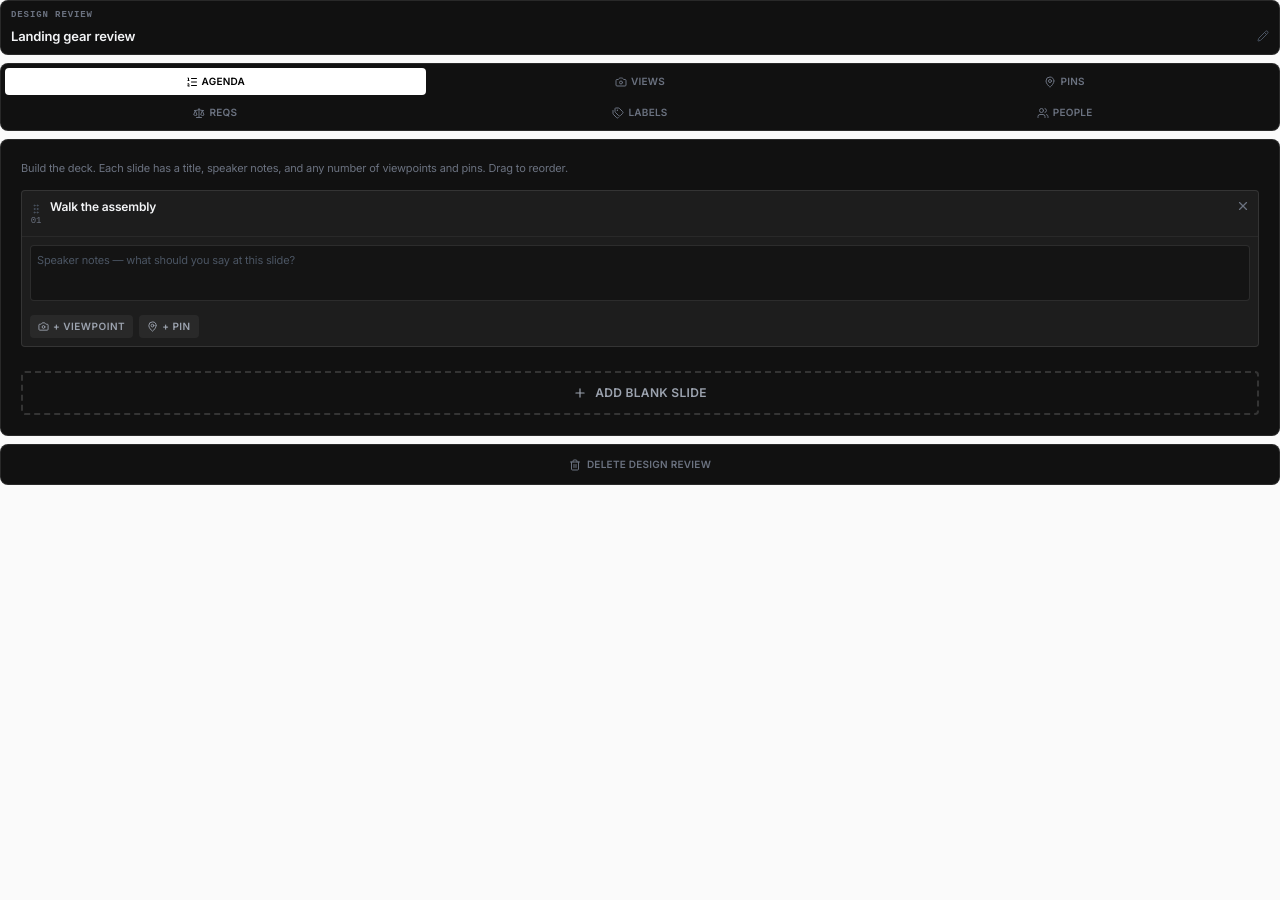
Test: deleting the design review › stays put and says what the endpoint said when it is refused
The width and height of the screenshot is (1280, 900).
Click the button "Delete design review" at coordinates (640, 465), box [7,451,1273,478]
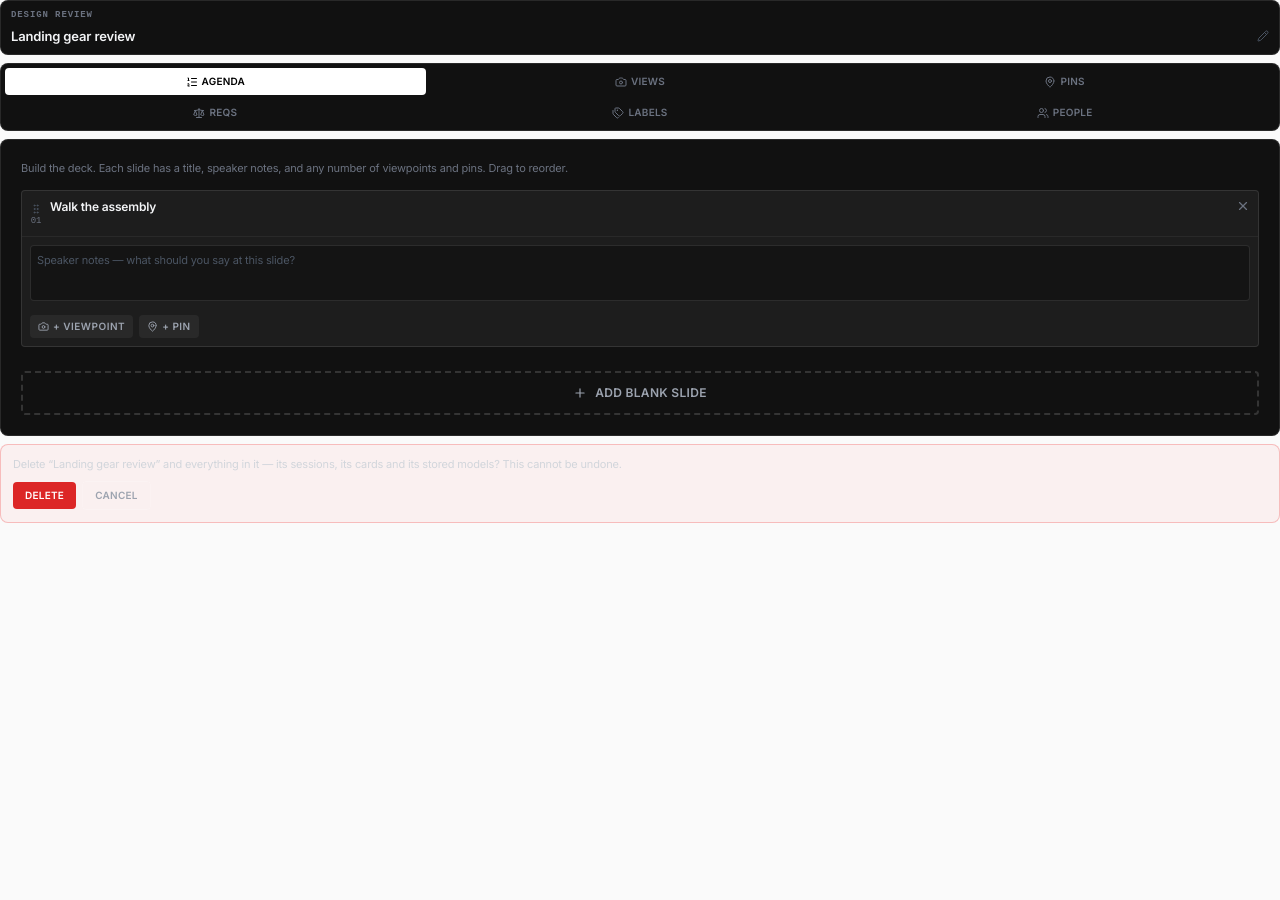
Click the button "Delete" at coordinates (45, 495), box [13,482,76,508]
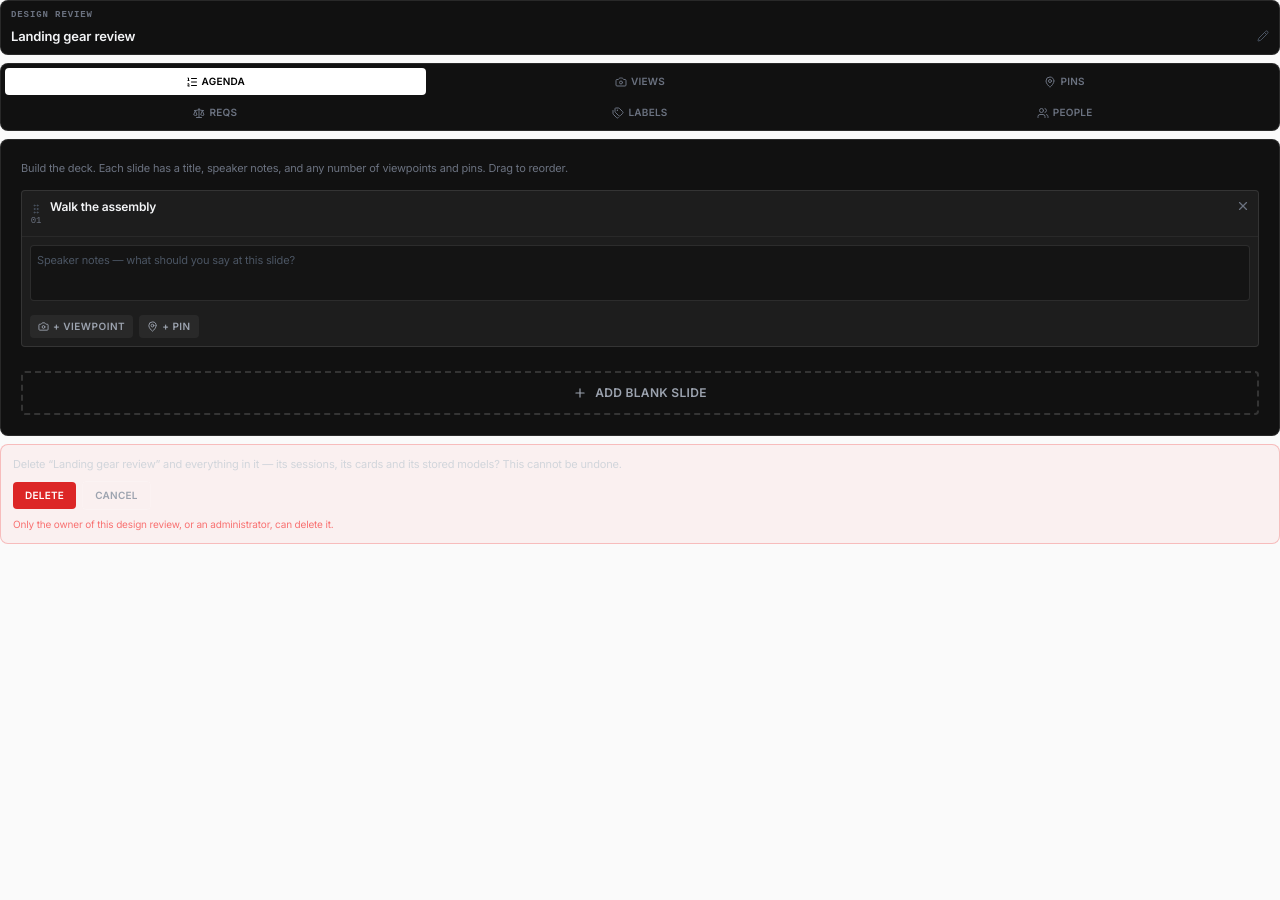
Expected: the text "Only the owner of this design review, or an administrator, can delete it." is shown, [13,518,334,530]
